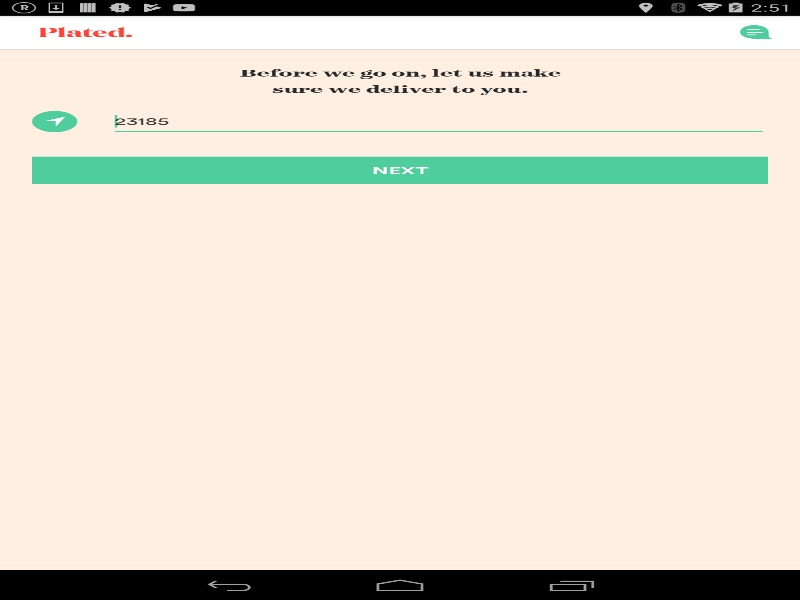Button: (32, 156, 768, 184), (740, 15, 773, 48), (32, 110, 77, 132)
Input: (109, 106, 768, 136)
